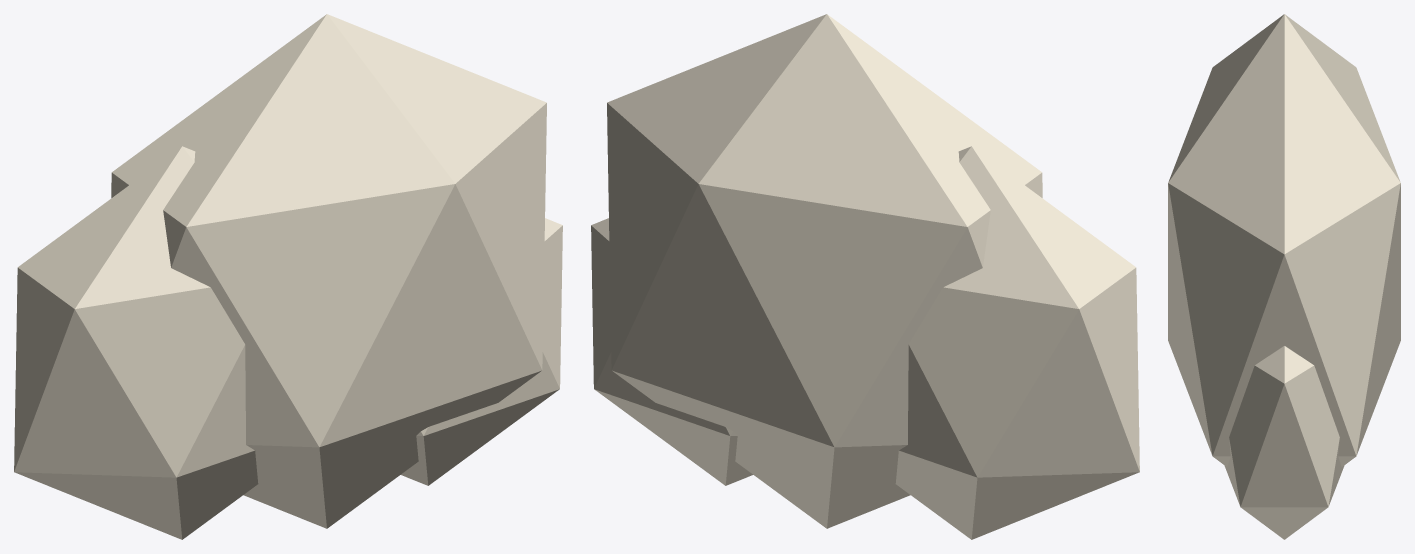
Rendered from common_steam_puff.glb.
3 renders of one model, left to right at view 1: azimuth 30°, elevation 25°; view 2: azimuth 150°, elevation 25°; view 3: azimuth 270°, elevation 25°, orthographic. The views are drawn at different scales.
Parts seen in each view (by area): view 1: common_steam_puff__common-ivory; view 2: common_steam_puff__common-ivory; view 3: common_steam_puff__common-ivory.
Boxes of the visible parts, box(x1,y1,x2,y2) form: common_steam_puff__common-ivory: box(14, 14, 562, 539); common_steam_puff__common-ivory: box(591, 14, 1139, 539); common_steam_puff__common-ivory: box(1168, 14, 1400, 539).
Size of the model in its own units: 1.9 by 1.7 by 0.723.
